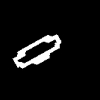chain: (13, 35, 60, 67)
